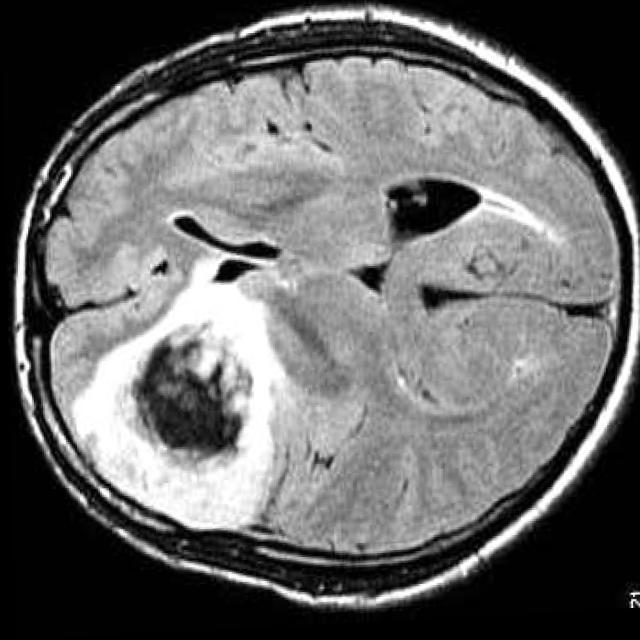Tumor: (70, 284, 271, 530), (119, 325, 251, 474)
